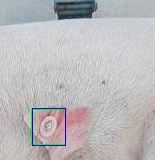text: (31, 109, 65, 144)
